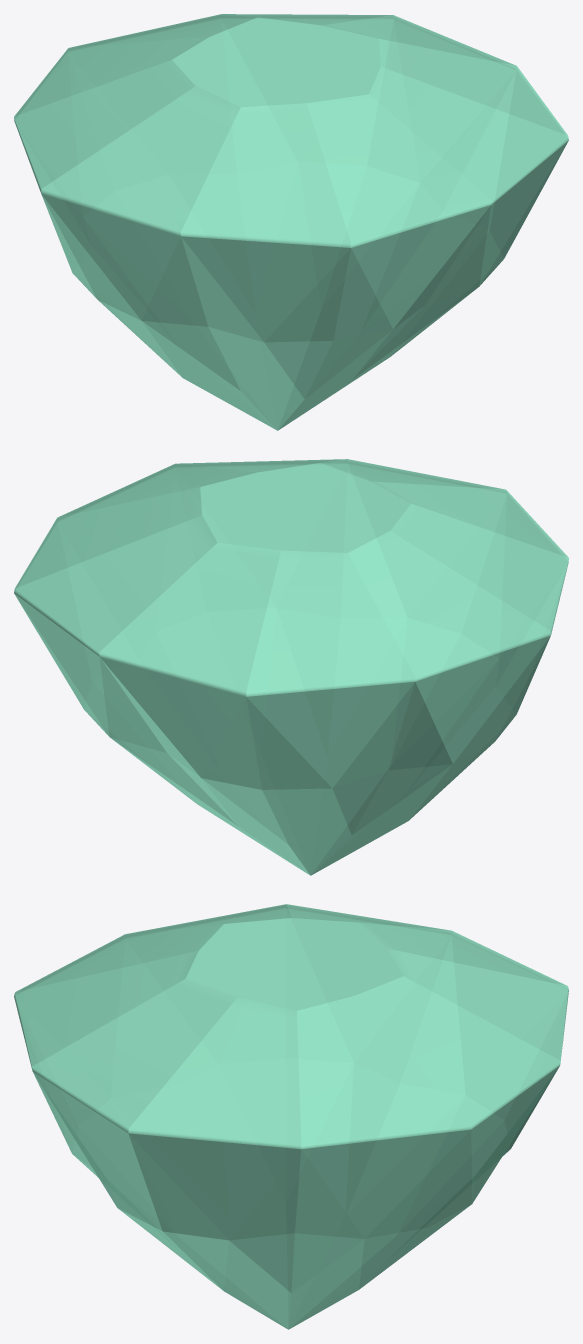
The model's file is houseki0102.fbx.
The picture shows the model from 3 angles, top to bottom: view 1: azimuth 30°, elevation 25°; view 2: azimuth 150°, elevation 25°; view 3: azimuth 270°, elevation 25°; orthographic projection. The views are drawn at different scales.
Parts seen in each view (by area): view 1: pPlatonic1; view 2: pPlatonic1; view 3: pPlatonic1.
Boxes of the visible parts, x1=… form: pPlatonic1: x1=14, y1=14, x2=568, y2=430; pPlatonic1: x1=14, y1=459, x2=568, y2=875; pPlatonic1: x1=14, y1=904, x2=568, y2=1329.
Size of the model in its own units: 90.52 by 65.06 by 88.06.
